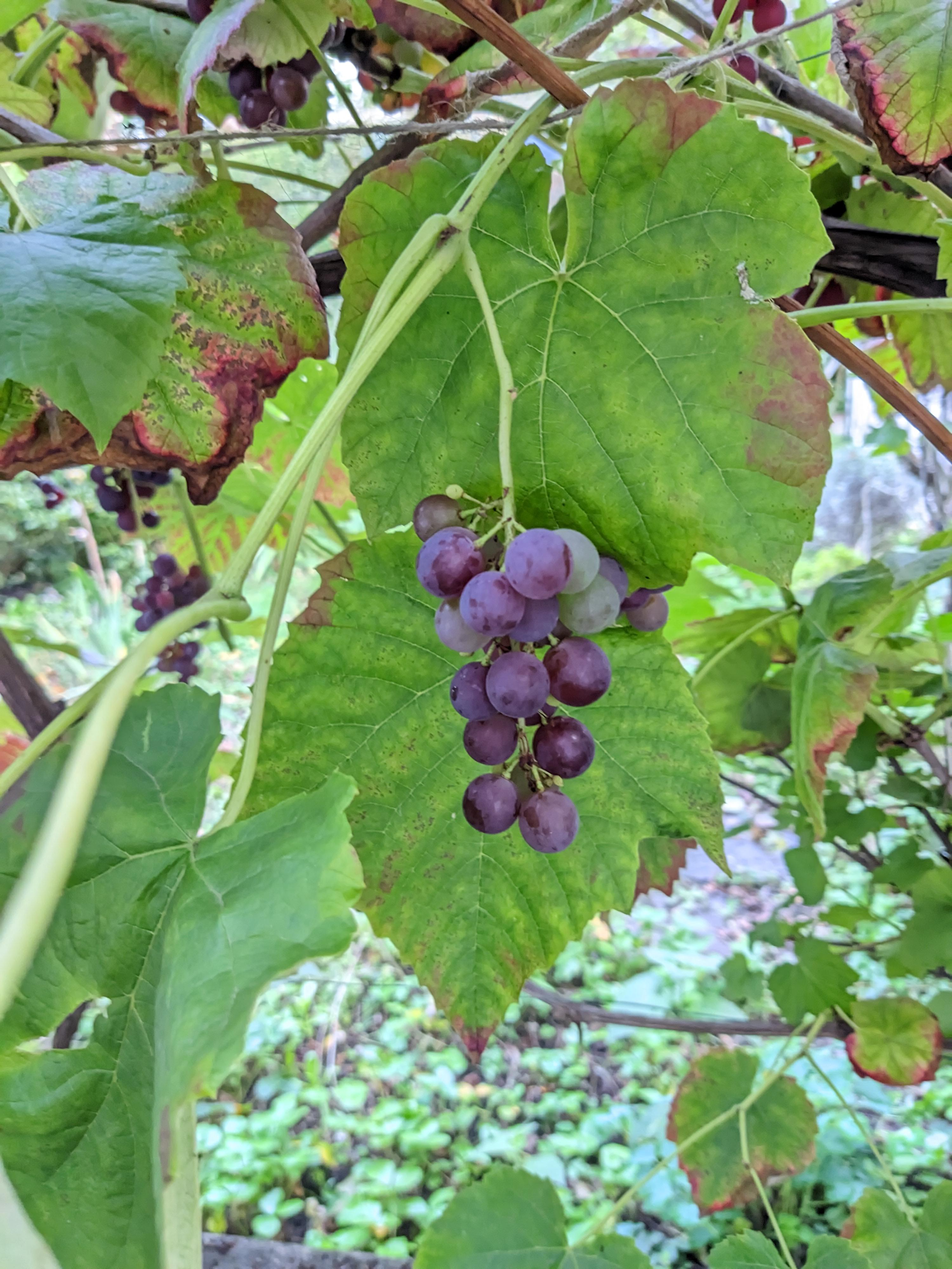Grape Unripe: (411, 484, 668, 856), (188, 0, 344, 134), (129, 552, 218, 683), (712, 1, 787, 86), (90, 462, 168, 532)
